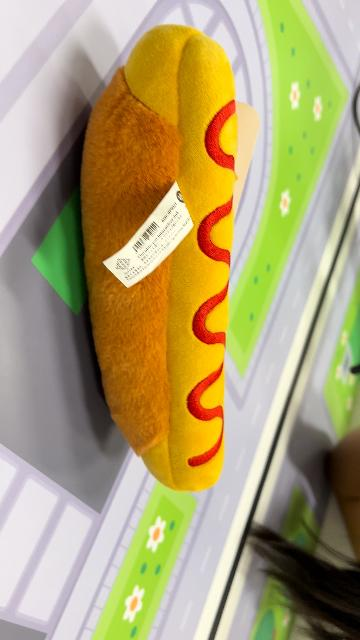hotdog: (79, 22, 240, 494)
